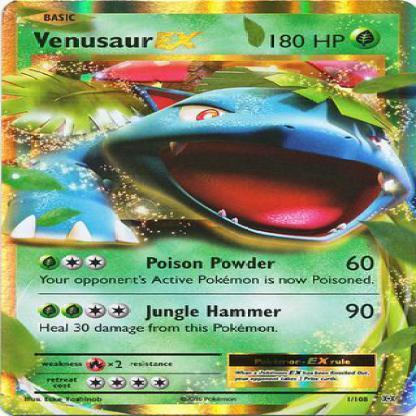Venusaur: (1, 54, 416, 254)
